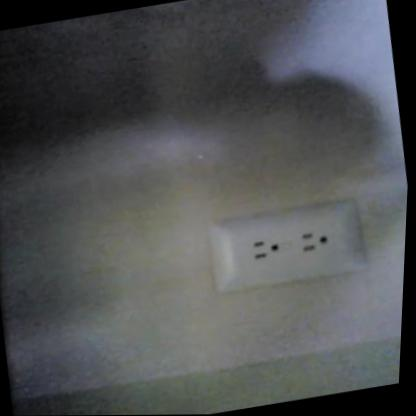OUTLET: (203, 195, 371, 297)
